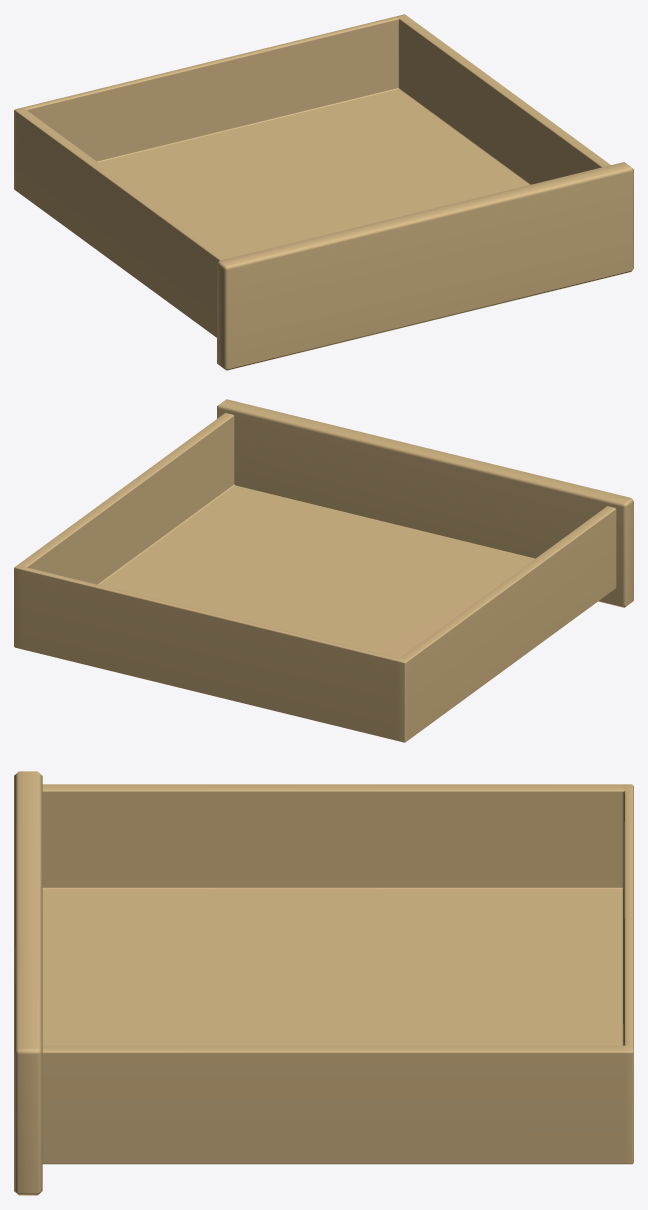
File: cassetto_tv.fbx
3 renders of one model, top to bottom at view 1: azimuth 30°, elevation 25°; view 2: azimuth 150°, elevation 25°; view 3: azimuth 270°, elevation 25°, orthographic. The views are drawn at different scales.
Parts seen in each view (by area): view 1: Drawer_02.001; view 2: Drawer_02.001; view 3: Drawer_02.001.
Part boxes in pixels (x1,y1,x2,y2): Drawer_02.001: [14, 14, 633, 370]; Drawer_02.001: [14, 399, 633, 742]; Drawer_02.001: [14, 771, 633, 1195].
Size of the model in its own units: 63.2 by 19.9 by 59.03.
